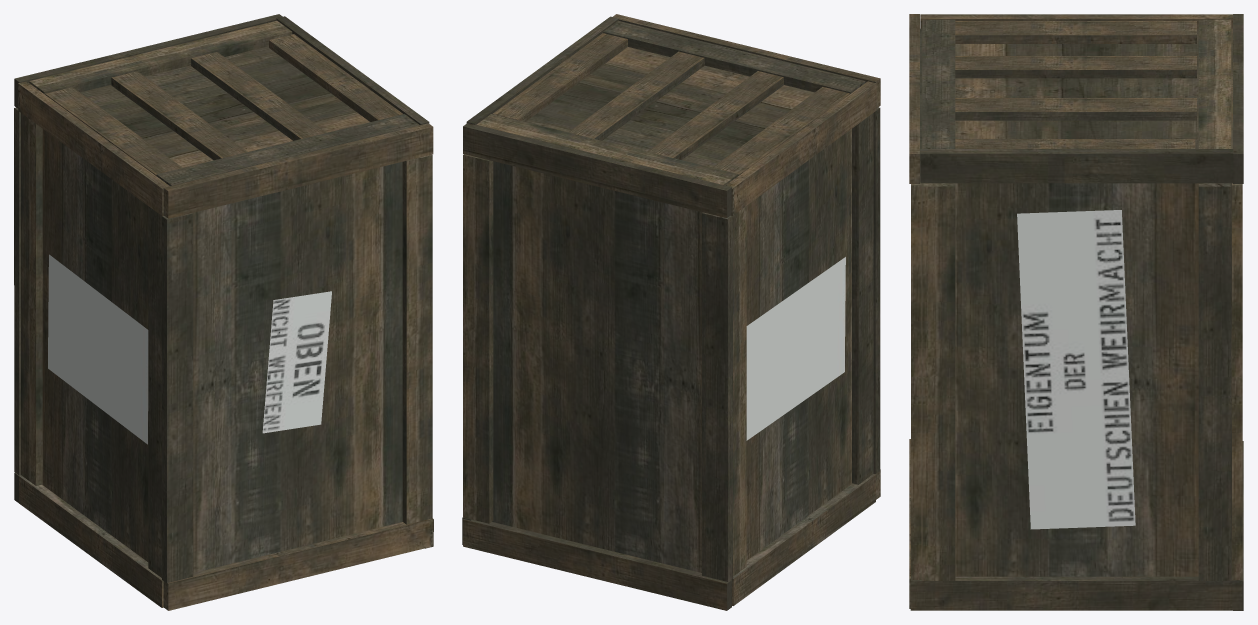
Rendered from prop_crate_wehrmacht2.glb.
3 renders of one model, left to right at view 1: azimuth 30°, elevation 25°; view 2: azimuth 150°, elevation 25°; view 3: azimuth 270°, elevation 25°, orthographic. The views are drawn at different scales.
Size of the model in its own units: 32.12 by 48.32 by 31.96.
2 materials, 2 textured.
